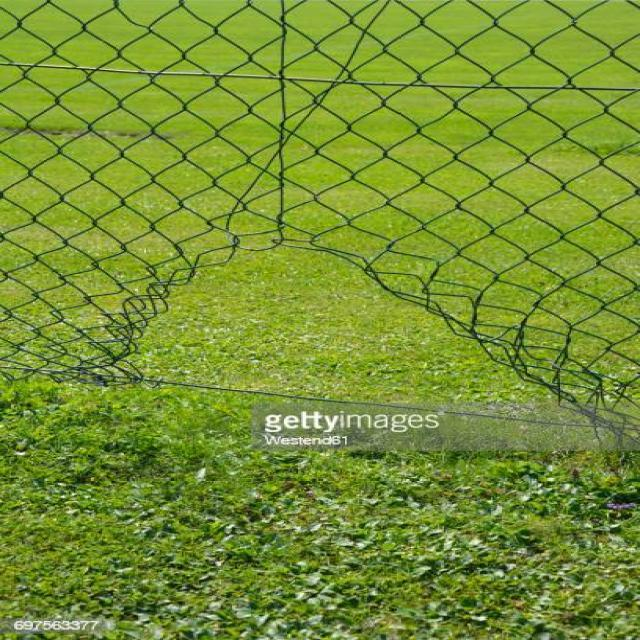fence line: (53, 206, 609, 488)
